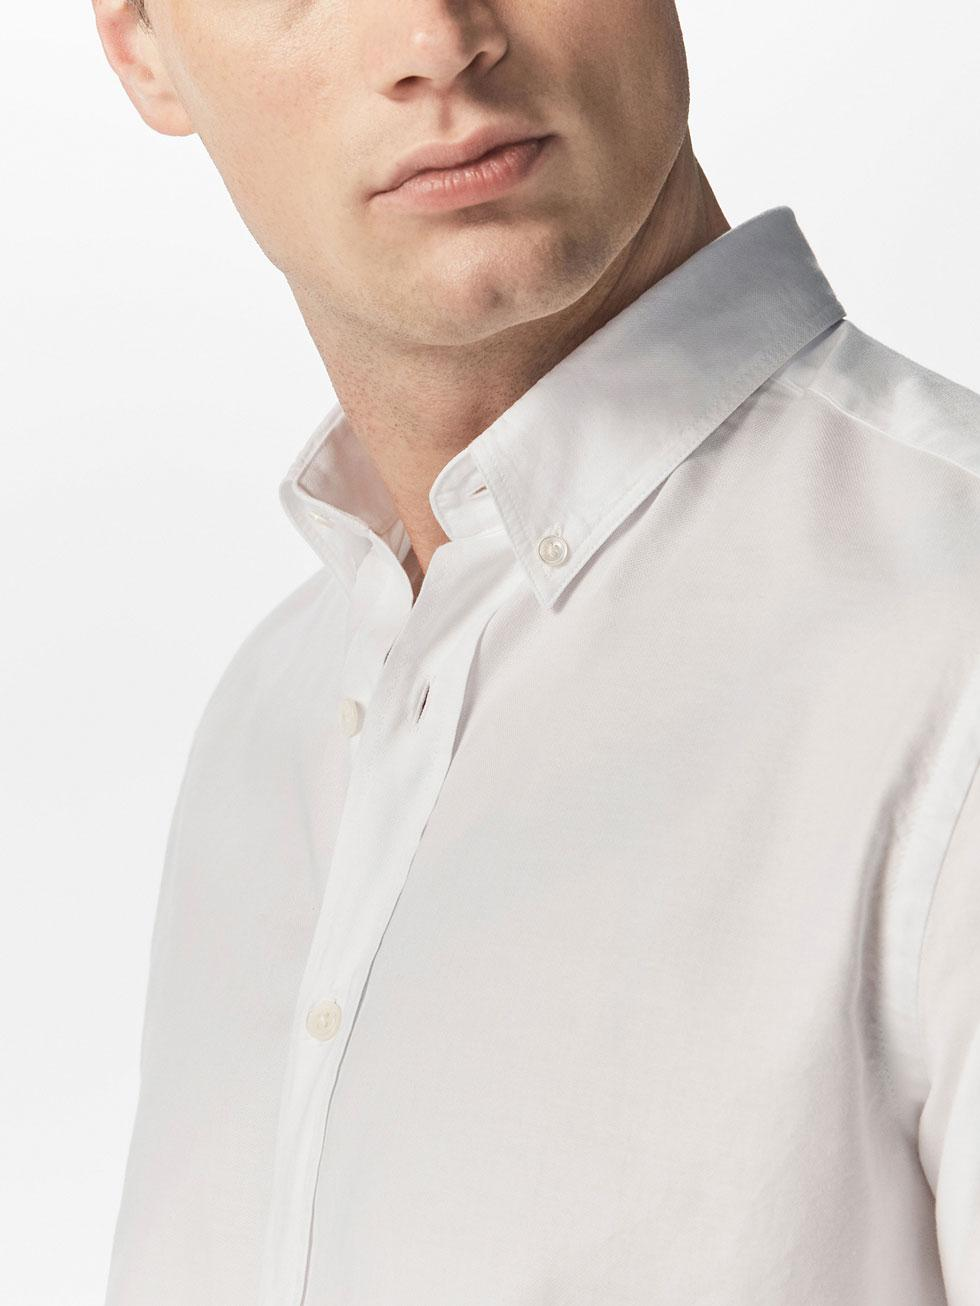teeshirt: (71, 209, 980, 1296)
